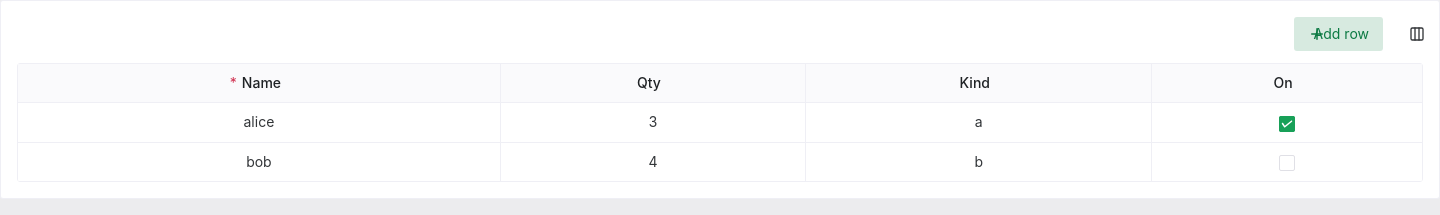
editable.save: 'cell' 即时保存 › 失败:这个格回滚到原值,@error 带错误,单元格上提示原因
The image size is (1440, 215).
Click the cell "alice": (259, 123) [18,103,501,143]
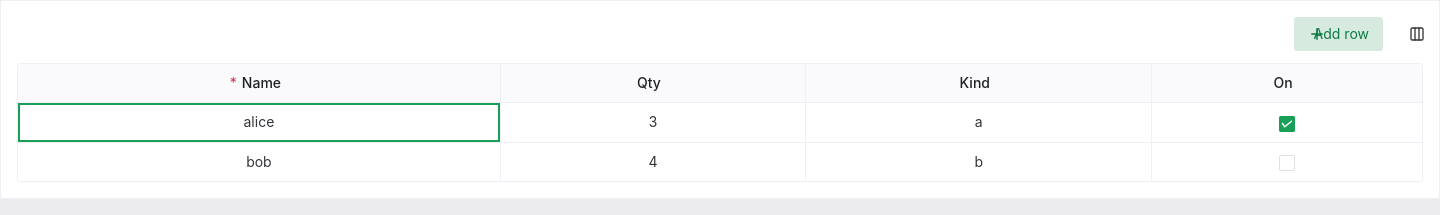
Click the cell "alice": (259, 123) [18,103,501,143]
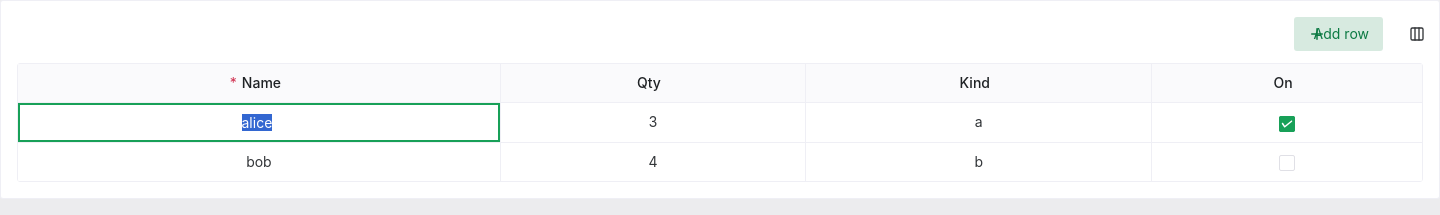
Replace the text in the field with "zed": (257, 123) [26,103,488,142]
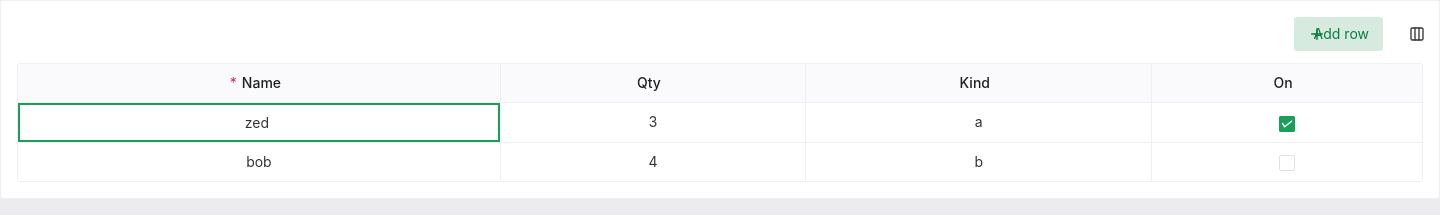
Press Enter in the field, box [26,103,488,142]
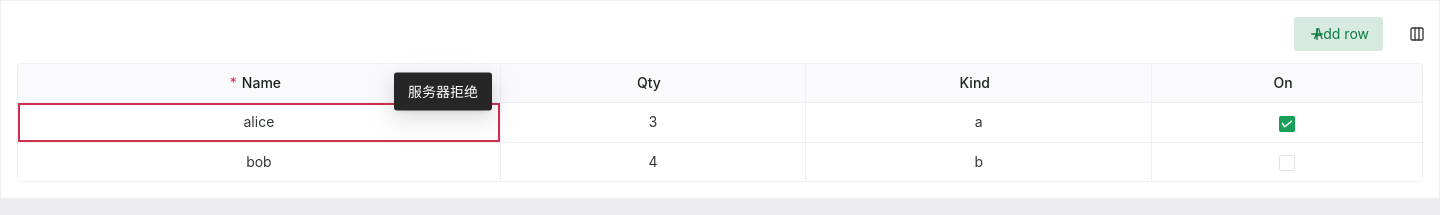
Check: the cell "alice" is shown, box [18,103,501,143]
Check: the text "服务器拒绝" is shown, box [408,81,478,103]
